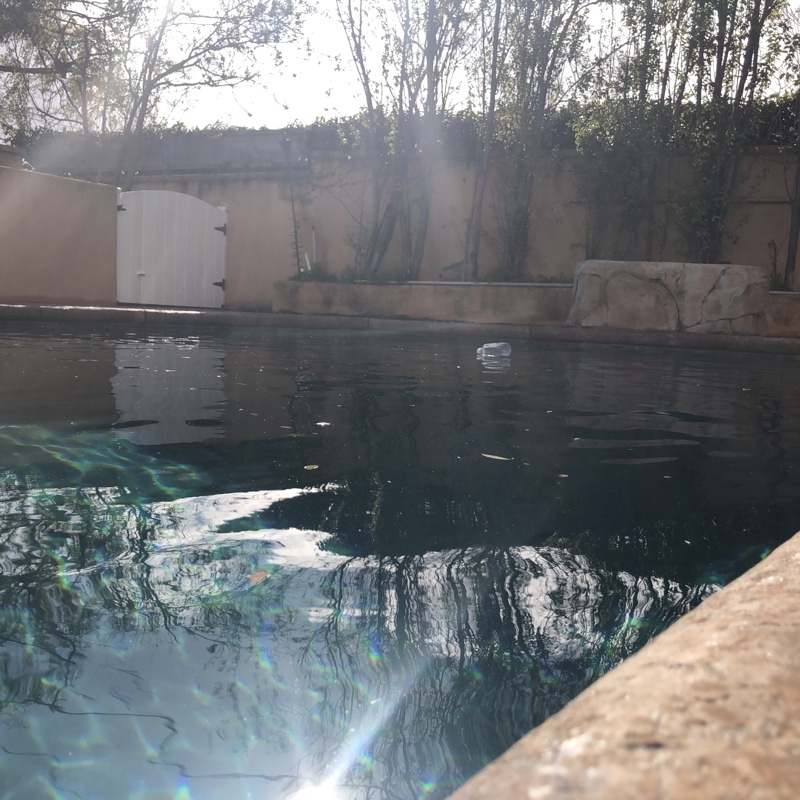Plastic Bottle: (476, 339, 512, 360)
